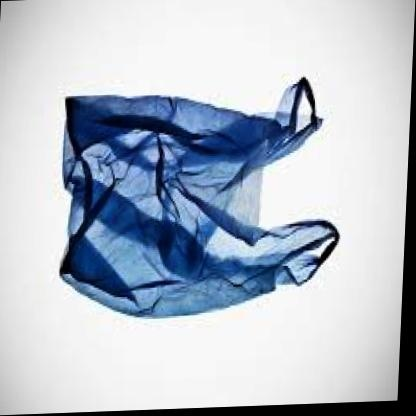trash: (60, 78, 338, 316)
